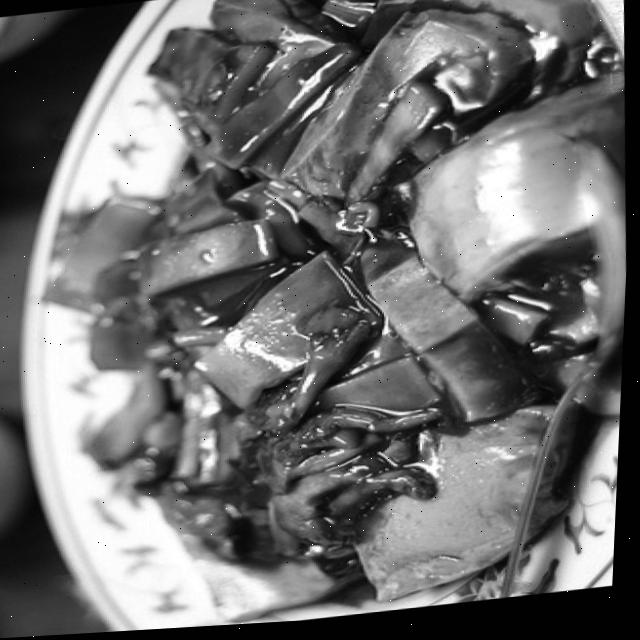豆腐料理: (22, 0, 640, 638)
